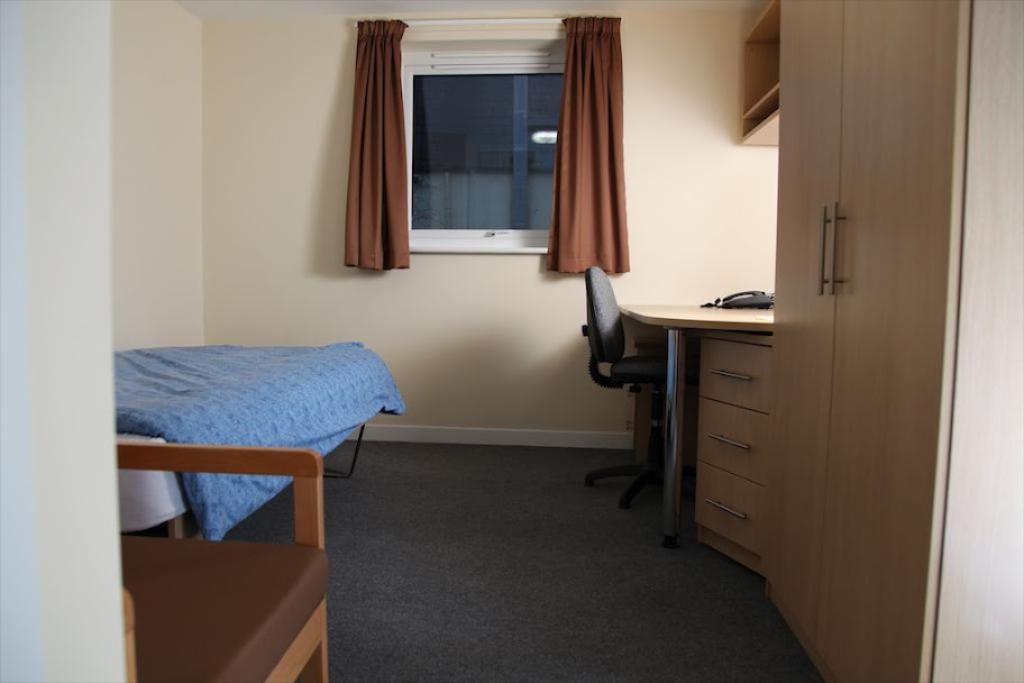cabinet door: (845, 16, 945, 683), (767, 5, 825, 618), (694, 401, 775, 469), (699, 472, 771, 540), (699, 339, 769, 397)
handle: (813, 205, 833, 288), (830, 200, 846, 288), (708, 424, 753, 453), (706, 495, 746, 524), (706, 368, 754, 391)
